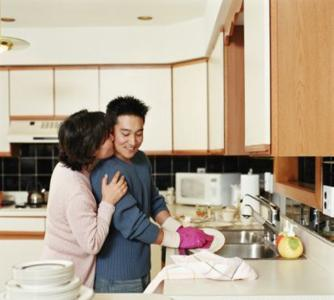person: (91, 97, 207, 294)
